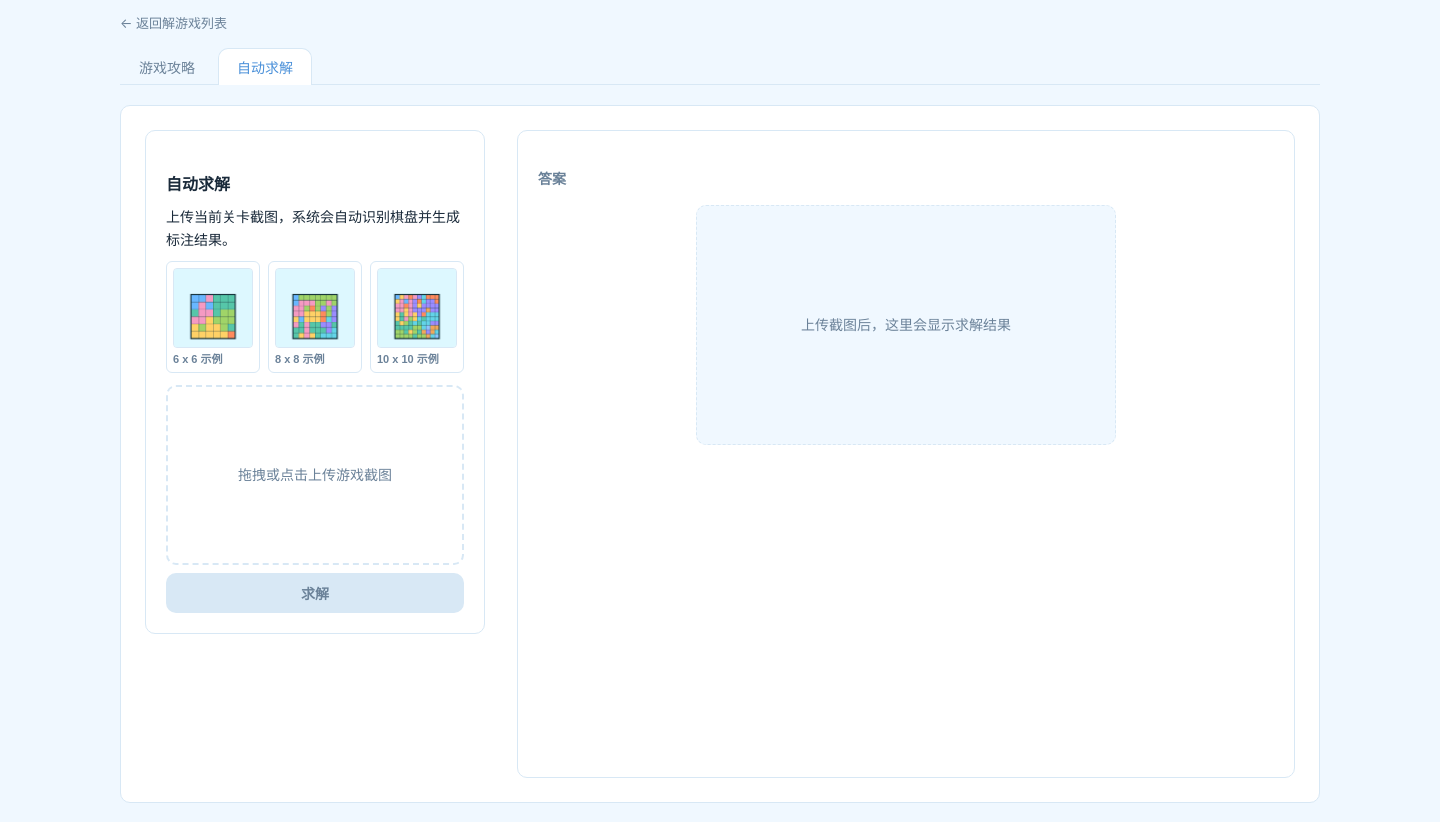
Scenario: SolveDetail › renders solver controls and enables solving after selecting a sample
Expected: the button "求解" is disabled, x1=166 y1=573 x2=464 y2=613
Click the button "10 x 10 示例". click: click(417, 317)
box: x1=370 y1=261 x2=464 y2=373
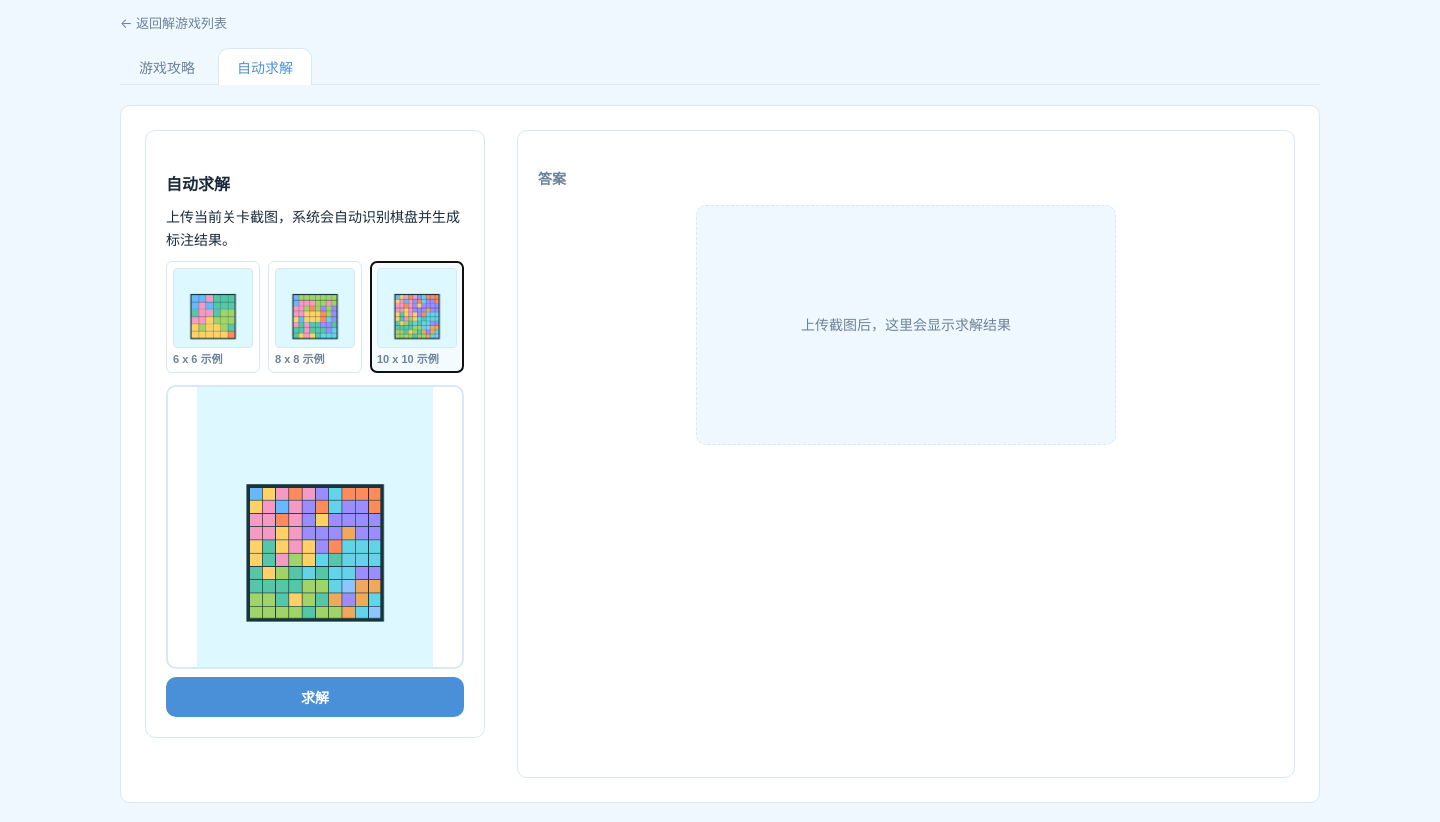
Now the picture with alt text "预览" is shown, box x1=168 y1=387 x2=462 y2=667
Now the button "求解" is enabled, box x1=166 y1=677 x2=464 y2=717
